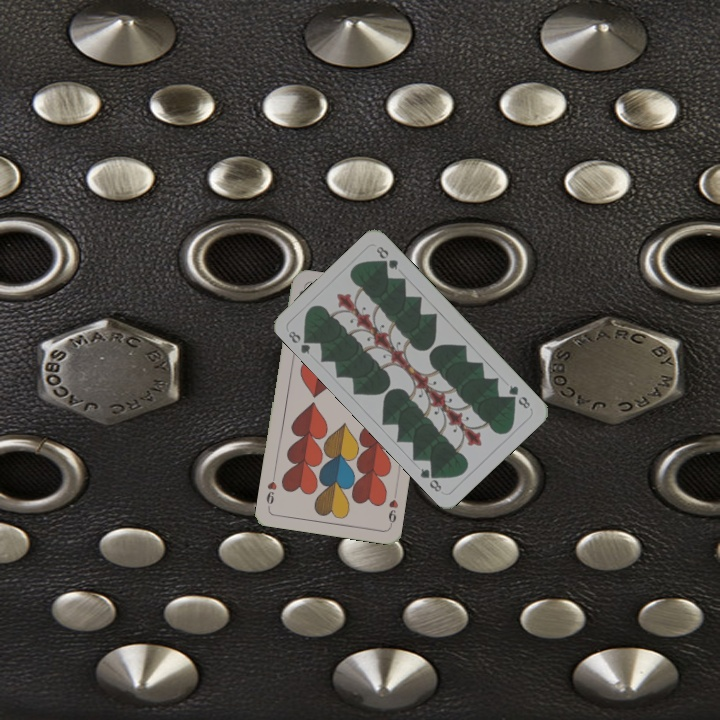G8: (284, 327, 315, 357), (504, 381, 533, 412)
H9: (384, 488, 401, 529)
